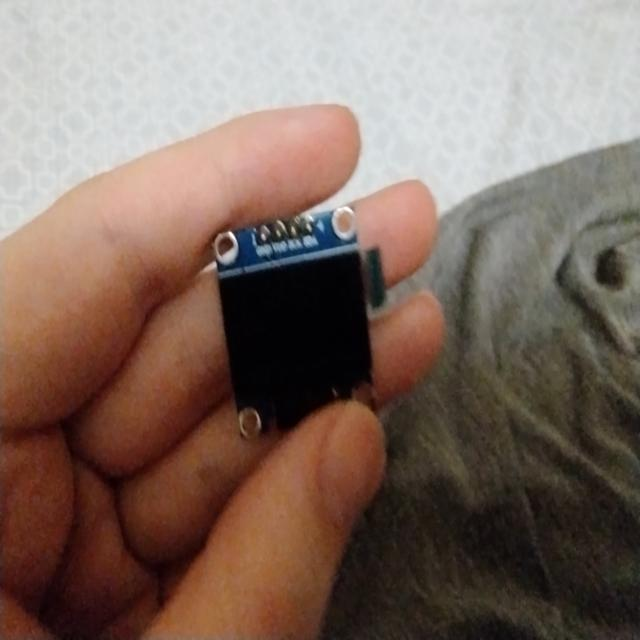oled: (213, 204, 393, 442)
